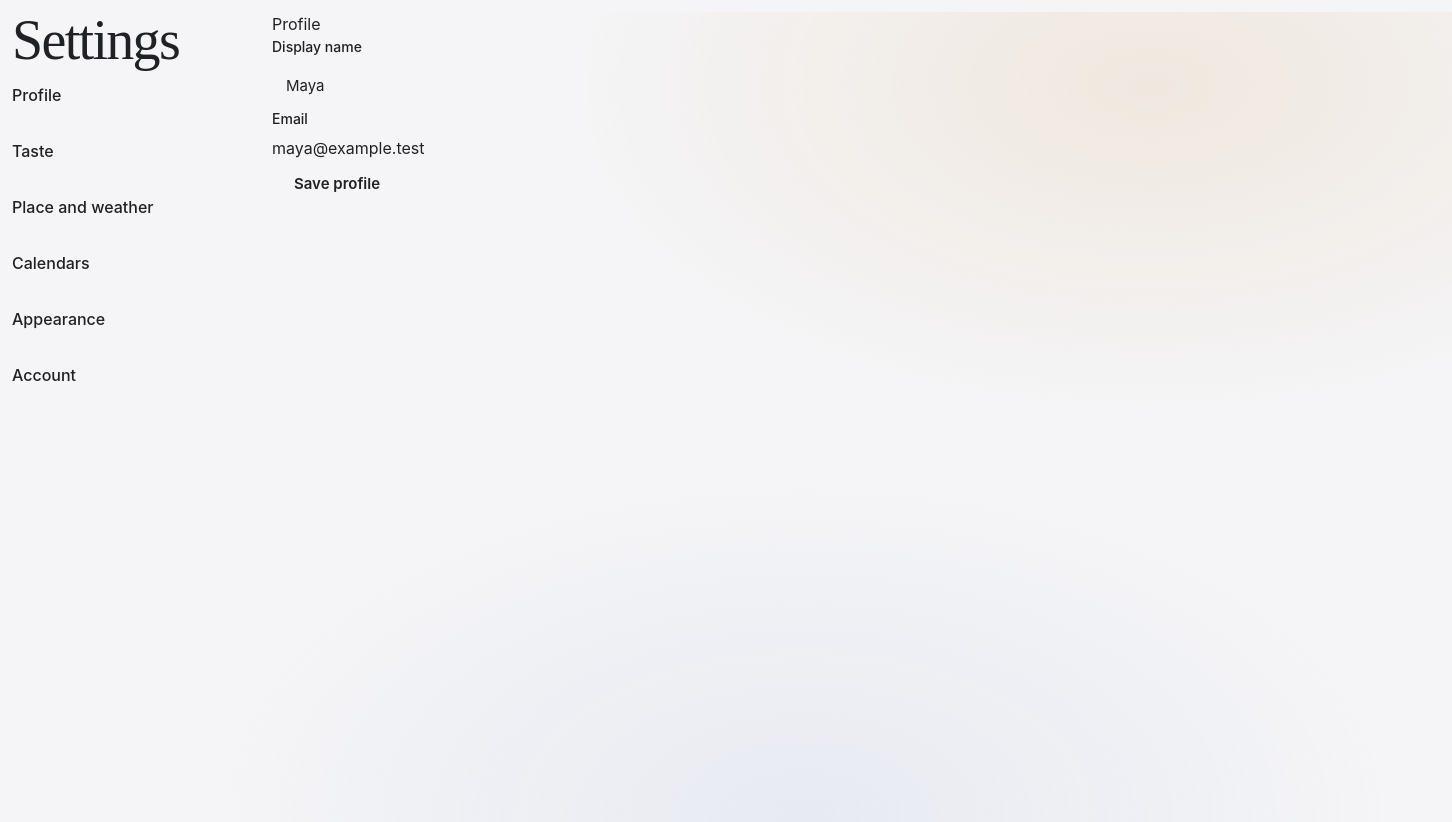
Test case: save payloads › saves the profile with display_name
The image size is (1452, 822).
Replace the text in the field labelled "Display name" with "Maya B" at {"x": 592, "y": 86}, box [272, 62, 912, 110]
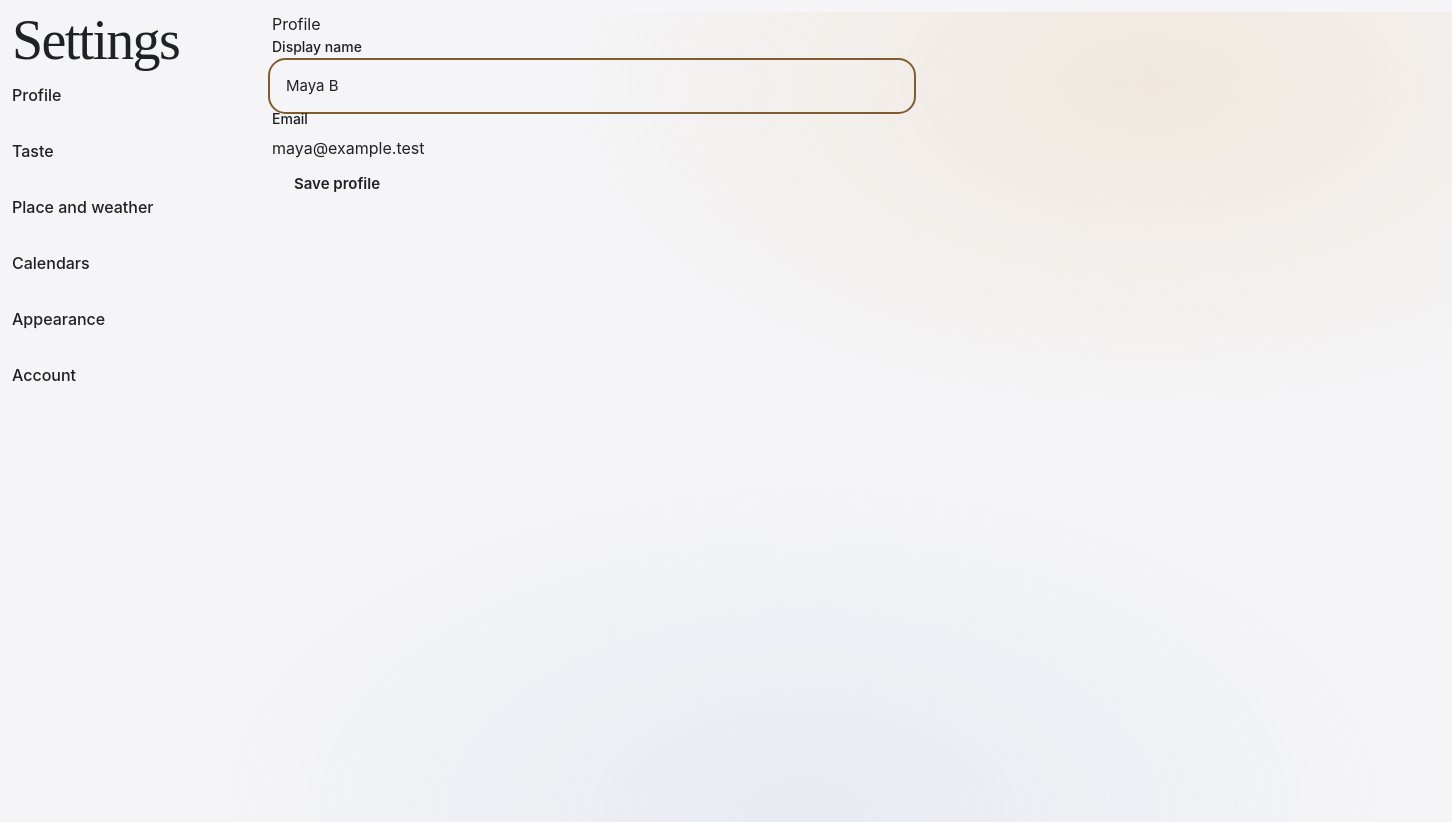
Click the button "Save profile" at {"x": 337, "y": 184}, box [272, 162, 402, 206]
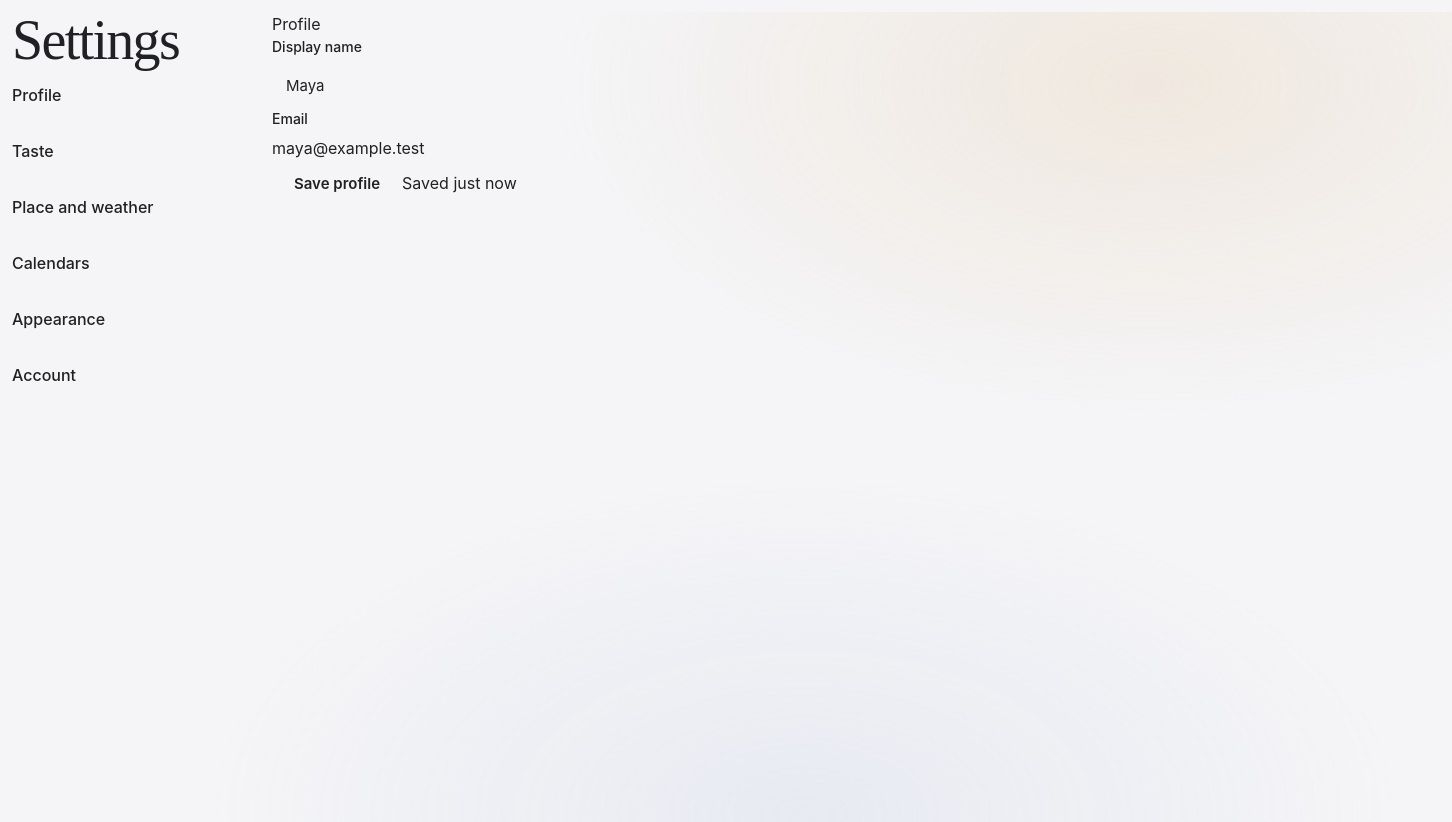
Result: the text "Saved just now" is shown at [402, 171, 517, 196]
